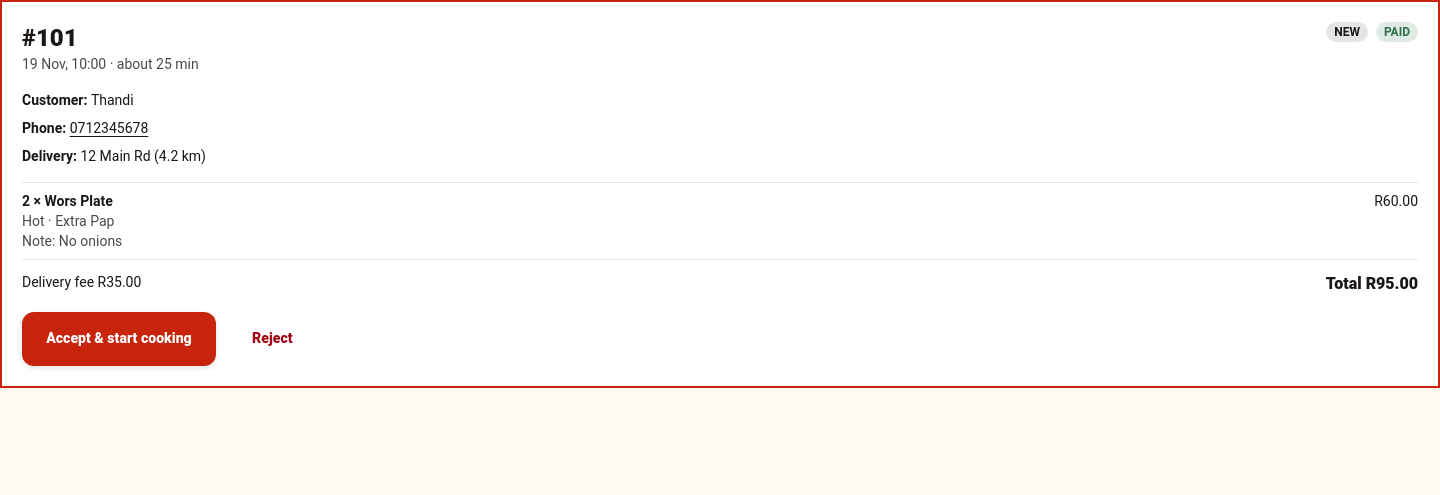
Test case: orders page › rejects only after confirming, with the Yoco refund reminder for paid orders
Later steps or results of the test are not shown.
Click the button "Reject": (272, 339) [228,312,317,366]
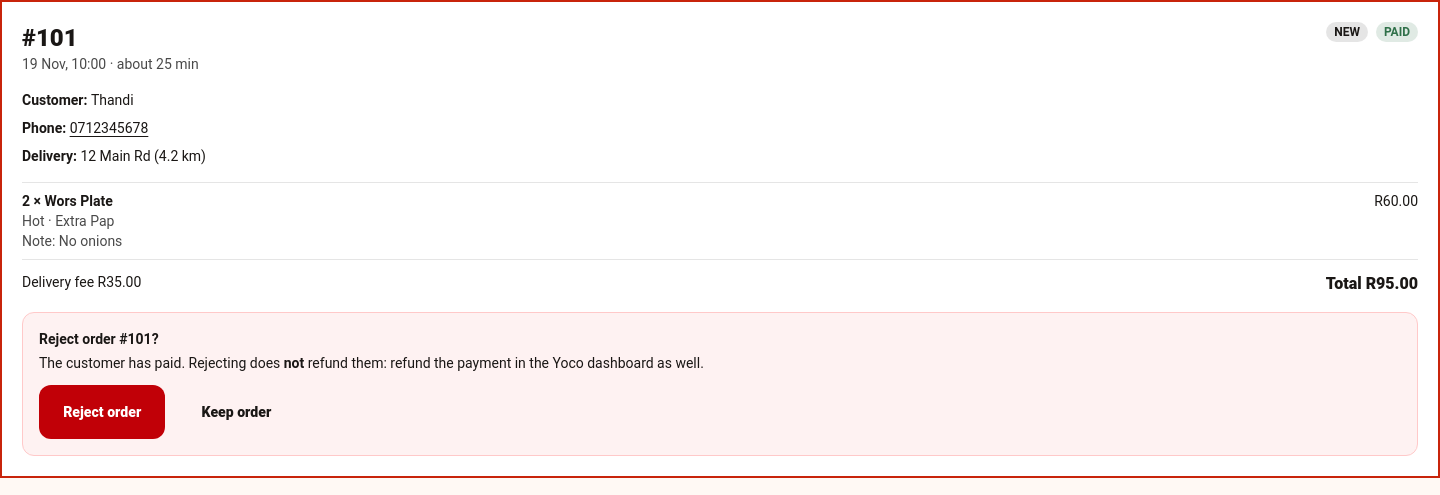
Now the text "refund the payment in the Yoco dashboard" is shown, box [304,355,704,371]
